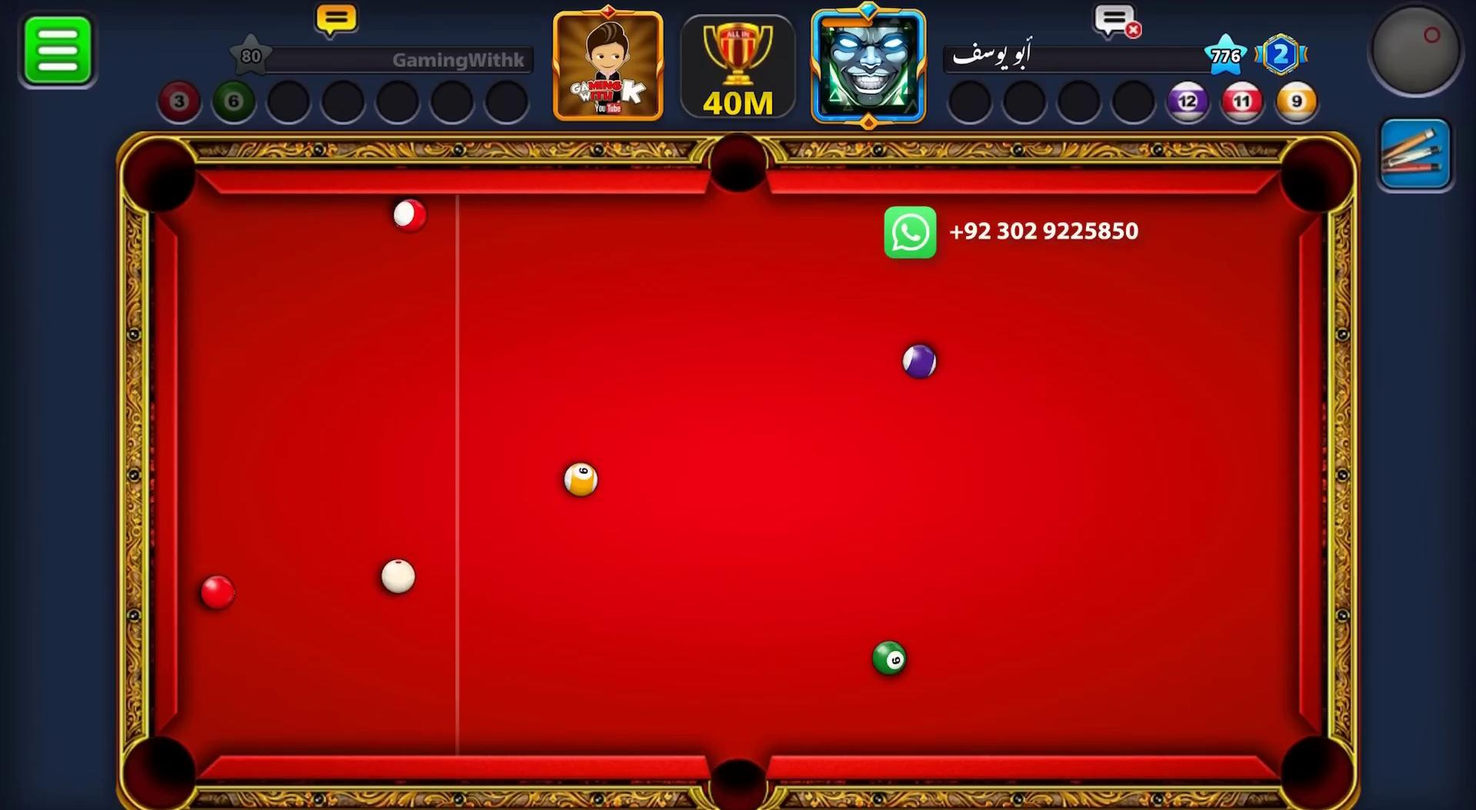Ball: (556, 456, 605, 504), (899, 336, 947, 381), (391, 196, 437, 241), (199, 573, 236, 611), (871, 641, 907, 677)
Hole: (1264, 719, 1378, 810), (693, 741, 779, 810), (1277, 139, 1353, 215), (121, 137, 198, 211), (123, 734, 200, 807), (708, 133, 768, 193)
Play_Area: (178, 193, 1301, 756)
Spin: (1367, 0, 1476, 108)
White: (372, 546, 419, 600)
